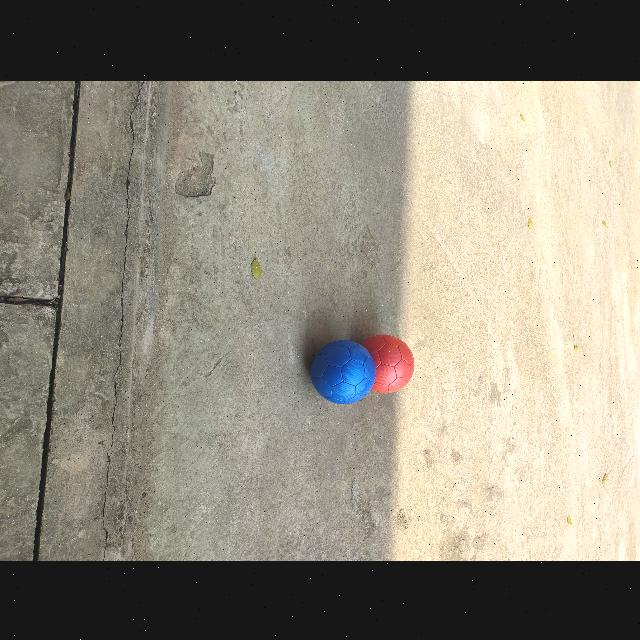B: (310, 339, 376, 403)
R: (363, 334, 414, 392)
